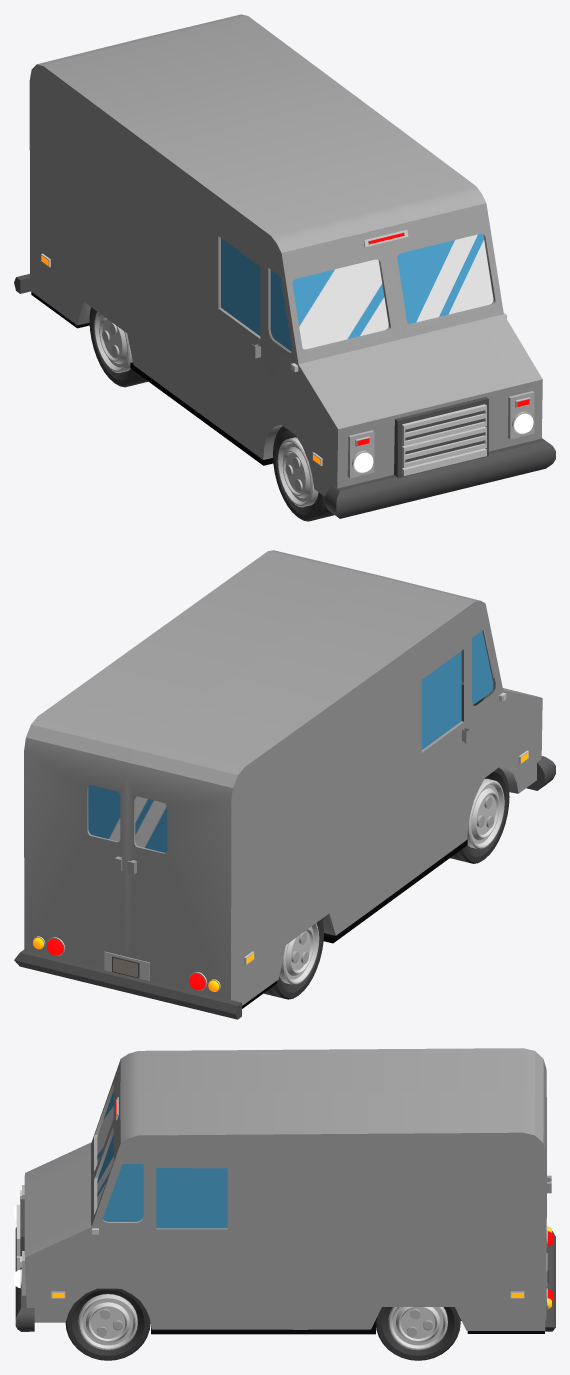
The model's file is realistic-usps-step-van.glb.
3 views of the same model, one above another, from view 1: azimuth 30°, elevation 25°; view 2: azimuth 150°, elevation 25°; view 3: azimuth 270°, elevation 25° (orthographic). The views are drawn at different scales.
Parts seen in each view (by area): view 1: Object_3, Object_11, Object_7, Object_6, Object_9, Object_8, Object_2, Object_5; view 2: Object_3, Object_11, Object_7, Object_6, Object_9, Object_2; view 3: Object_3, Object_11, Object_6, Object_9, Object_7, Object_2, Object_8.
Boxes of the visible parts, box(x1,y1,x2,y2) form: Object_3: box(29, 14, 542, 496); Object_11: box(221, 234, 493, 351); Object_7: box(14, 274, 555, 518); Object_6: box(41, 229, 533, 507); Object_9: box(89, 307, 334, 521); Object_8: box(102, 323, 534, 491); Object_2: box(31, 292, 273, 465); Object_5: box(354, 413, 533, 472); Object_3: box(24, 550, 542, 1005); Object_11: box(88, 631, 493, 852); Object_7: box(14, 682, 555, 1019); Object_6: box(33, 692, 528, 991); Object_9: box(264, 767, 509, 999); Object_2: box(242, 839, 467, 1008); Object_3: box(24, 1048, 551, 1330); Object_11: box(97, 1091, 227, 1228); Object_6: box(16, 1097, 548, 1350); Object_9: box(65, 1288, 460, 1360); Object_7: box(15, 1199, 555, 1331); Object_2: box(151, 1319, 544, 1334); Object_8: box(22, 1185, 433, 1336).
Size of the model in its own units: 1.56 by 1.85 by 3.9.
11 materials, 1 textured.
